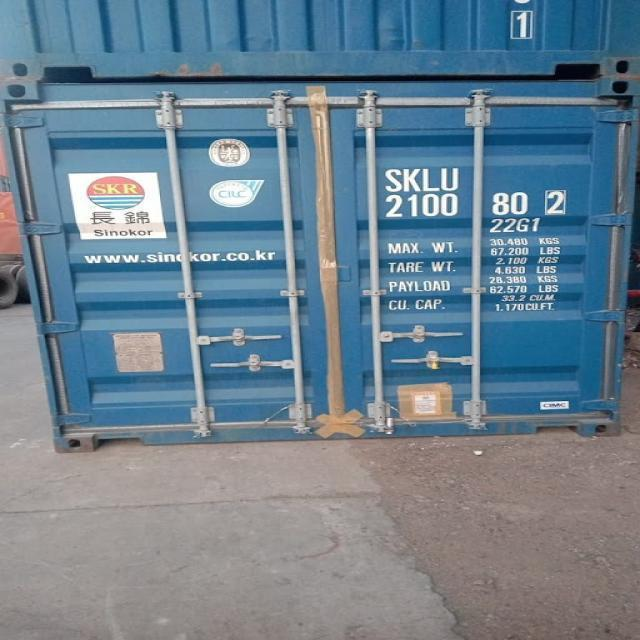ISO: (490, 216, 546, 235)
container_number: (384, 158, 568, 220)
